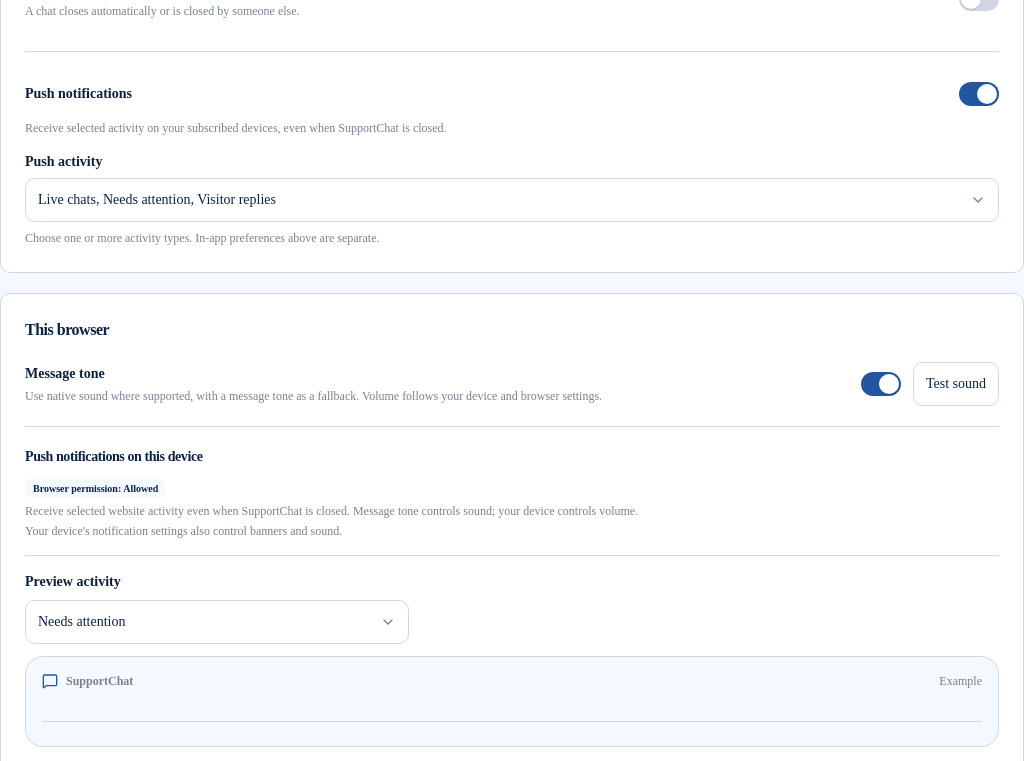
Scenario: the settings switch persists mute and suppresses tones while keeping toasts
(page scrolled)
Click the switch named "Message tone". click: (881, 384)
box: [861, 372, 901, 396]
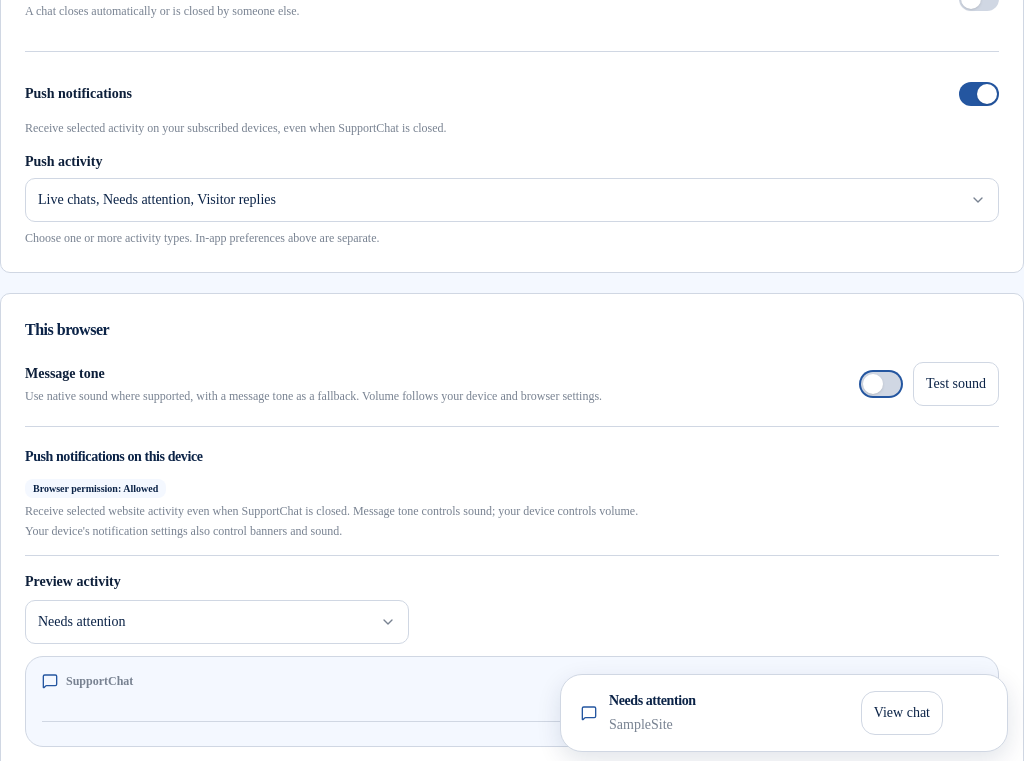
Result: the switch named "Message tone" is not checked at [861, 372, 901, 396]
Result: the button "View chat" is shown at [861, 691, 943, 735]
